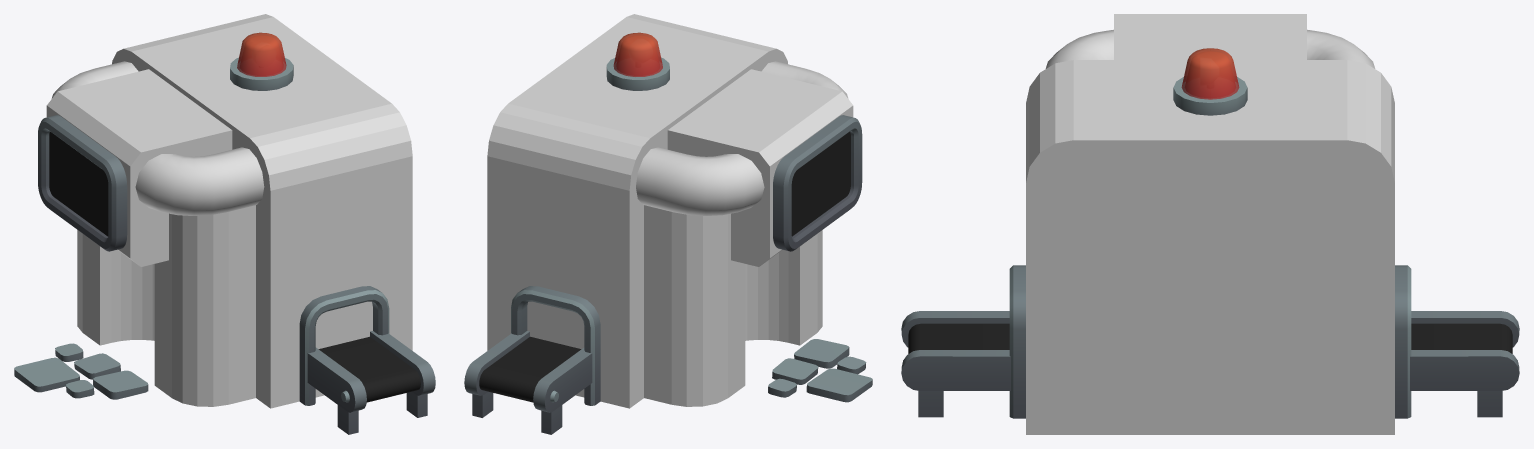
The model's file is crosshatcher.fbx.
3 renders of one model, left to right at view 1: azimuth 30°, elevation 25°; view 2: azimuth 150°, elevation 25°; view 3: azimuth 270°, elevation 25°, orthographic. The views are drawn at different scales.
Parts seen in each view (by area): view 1: Cube, Cube.001, Cube.007, m_crosshatcher.001, m_crosshatcher.002, BézierCircle, m_crosshatcher, m_crosshatcher.003; view 2: Cube, Cube.001, Cube.007, m_crosshatcher.001, m_crosshatcher.002, BézierCircle, m_crosshatcher, m_crosshatcher.003; view 3: Cube, m_crosshatcher.001, Cube.007, m_crosshatcher.003, BézierCircle.
Part boxes in pixels (left/top/right/bottom): Cube: left=112, top=14, right=412, bottom=408; Cube.001: left=77, top=205, right=255, bottom=406; Cube.007: left=46, top=69, right=232, bottom=266; m_crosshatcher.001: left=299, top=286, right=435, bottom=434; m_crosshatcher.002: left=38, top=115, right=127, bottom=251; BézierCircle: left=51, top=61, right=264, bottom=215; m_crosshatcher: left=14, top=343, right=148, bottom=399; m_crosshatcher.003: left=230, top=32, right=293, bottom=90; Cube: left=487, top=14, right=787, bottom=408; Cube.001: left=644, top=205, right=822, bottom=406; Cube.007: left=667, top=69, right=853, bottom=266; m_crosshatcher.001: left=464, top=286, right=600, bottom=434; m_crosshatcher.002: left=773, top=115, right=862, bottom=251; BézierCircle: left=636, top=61, right=848, bottom=215; m_crosshatcher: left=768, top=339, right=872, bottom=402; m_crosshatcher.003: left=606, top=32, right=669, bottom=90; Cube: left=1026, top=60, right=1394, bottom=434; m_crosshatcher.001: left=901, top=265, right=1519, bottom=418; Cube.007: left=1114, top=14, right=1306, bottom=59; m_crosshatcher.003: left=1173, top=48, right=1247, bottom=115; BézierCircle: left=1045, top=29, right=1375, bottom=68.
Size of the model in its own units: 0.8428 by 1.3 by 0.7881.
